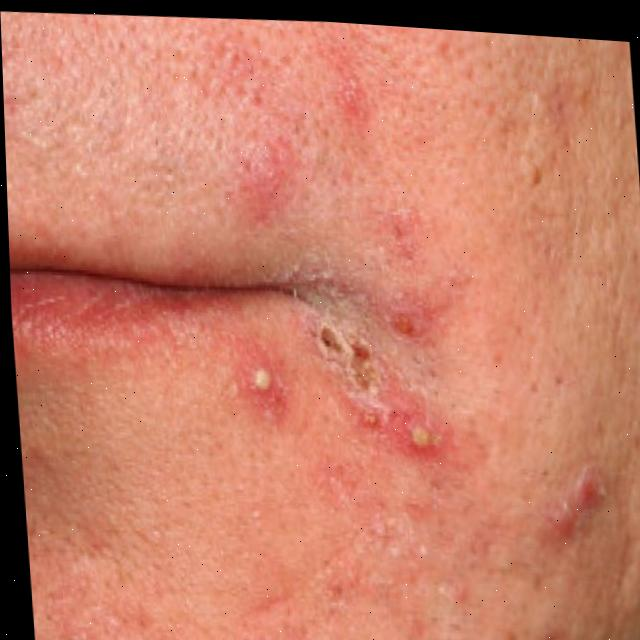Acne: (55, 22, 640, 640)
